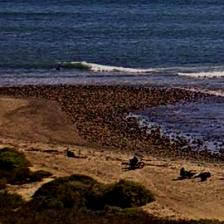surfer: (56, 66, 61, 71)
